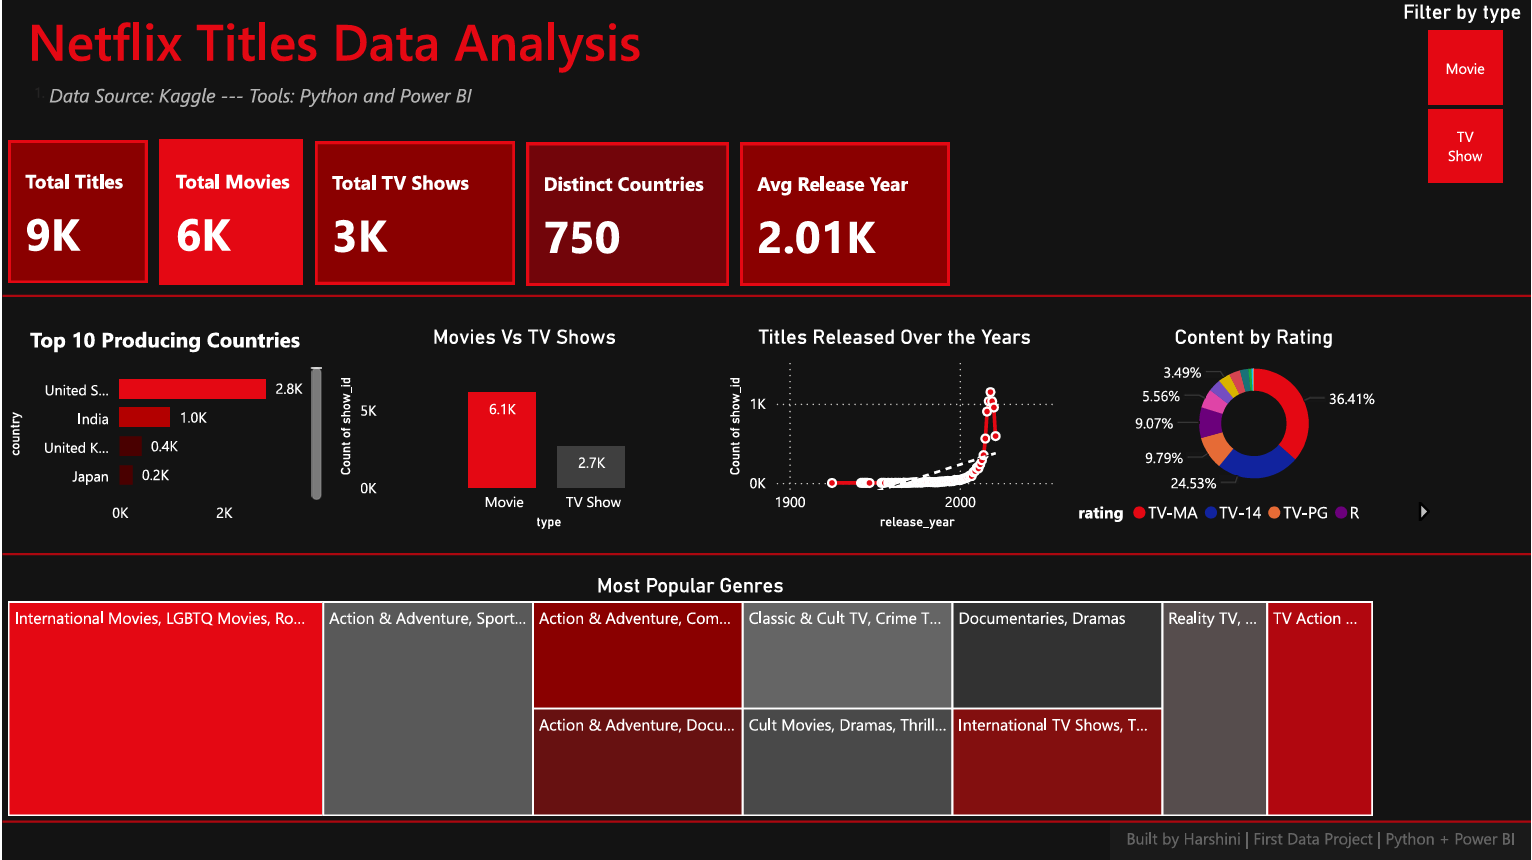

The page's visual inventory and layout, read from the dashboard file:
{"tool":"powerbi","page":{"name":"Page 1","canvas":[1280,720],"ordinal":0},"visuals":[{"type":"textbox","box":[16,0,976,96],"z":0},{"type":"textbox","box":[16,64,1040,32],"z":1000},{"type":"cardVisual","fields":{"Data":["netflix_cleaned.Total Titles"]},"box":[0,113.3,125.9,128.7],"z":2000},{"type":"cardVisual","fields":{"Data":["netflix_cleaned.Total Movies"]},"box":[126.1,112.3,130.4,130.4],"z":3000},{"type":"cardVisual","fields":{"Data":["netflix_cleaned.Total TV Shows"]},"box":[256.6,113.6,176.9,129.1],"z":4000},{"type":"cardVisual","fields":{"Data":["netflix_cleaned.Distinct Countries"]},"box":[433.7,114.9,179.5,129.1],"z":5000},{"type":"cardVisual","fields":{"Data":["netflix_cleaned.Avg Release Year"]},"box":[613.3,114.9,184.6,129.1],"z":6000},{"type":"clusteredColumnChart","title":"Movies Vs TV Shows","fields":{"Category":["netflix_cleaned.type"],"Y":["CountNonNull(netflix_cleaned.show_id)"]},"box":[277.3,272,320,176],"z":7000},{"type":"barChart","title":"Top 10 Producing Countries","fields":{"Category":["netflix_cleaned.country"],"Y":["CountNonNull(netflix_cleaned.show_id)"]},"box":[0,272,272,176],"z":8000},{"type":"lineChart","title":"Titles Released Over the Years","fields":{"Category":["netflix_cleaned.release_year"],"Y":["CountNonNull(netflix_cleaned.show_id)"]},"box":[602.7,272,288,176],"z":9000},{"type":"donutChart","title":"Content by Rating","fields":{"Y":["CountNonNull(netflix_cleaned.show_id)"],"Category":["netflix_cleaned.rating"]},"box":[896,272,304,176],"z":10000},{"type":"treemap","title":"Most Popular Genres","fields":{"Group":["netflix_cleaned.listed_in"],"Values":["CountNonNull(netflix_cleaned.show_id)"]},"box":[0,480,1152,208],"z":11000},{"type":"slicer","title":"Filter by type","fields":{"Values":["netflix_cleaned.type"]},"box":[1168,0,112,160],"z":12000},{"type":"textbox","box":[928,688,352,32],"z":12001},{"type":"shape","box":[0,656,1280,64],"z":12002},{"type":"shape","box":[0,384,1280,160],"z":12003},{"type":"shape","box":[0,240,1280,16],"z":12004}]}

Visuals, with their boxes in screenshot pixels (x1, y1, x2, y2), scaled from the page's 1280x720 canvas onto the 1532x860 screenshot:
textbox: detection(19, 0, 1187, 115)
textbox: detection(19, 76, 1264, 115)
cardVisual - netflix_cleaned.Total Titles: detection(0, 135, 151, 289)
cardVisual - netflix_cleaned.Total Movies: detection(151, 134, 307, 290)
cardVisual - netflix_cleaned.Total TV Shows: detection(307, 136, 519, 290)
cardVisual - netflix_cleaned.Distinct Countries: detection(519, 137, 734, 291)
cardVisual - netflix_cleaned.Avg Release Year: detection(734, 137, 955, 291)
"Movies Vs TV Shows" clusteredColumnChart: detection(332, 325, 715, 535)
"Top 10 Producing Countries" barChart: detection(0, 325, 326, 535)
"Titles Released Over the Years" lineChart: detection(721, 325, 1066, 535)
"Content by Rating" donutChart: detection(1072, 325, 1436, 535)
"Most Popular Genres" treemap: detection(0, 573, 1379, 822)
"Filter by type" slicer: detection(1398, 0, 1531, 191)
textbox: detection(1111, 822, 1531, 859)
shape: detection(0, 784, 1531, 859)
shape: detection(0, 459, 1531, 650)
shape: detection(0, 287, 1531, 306)
